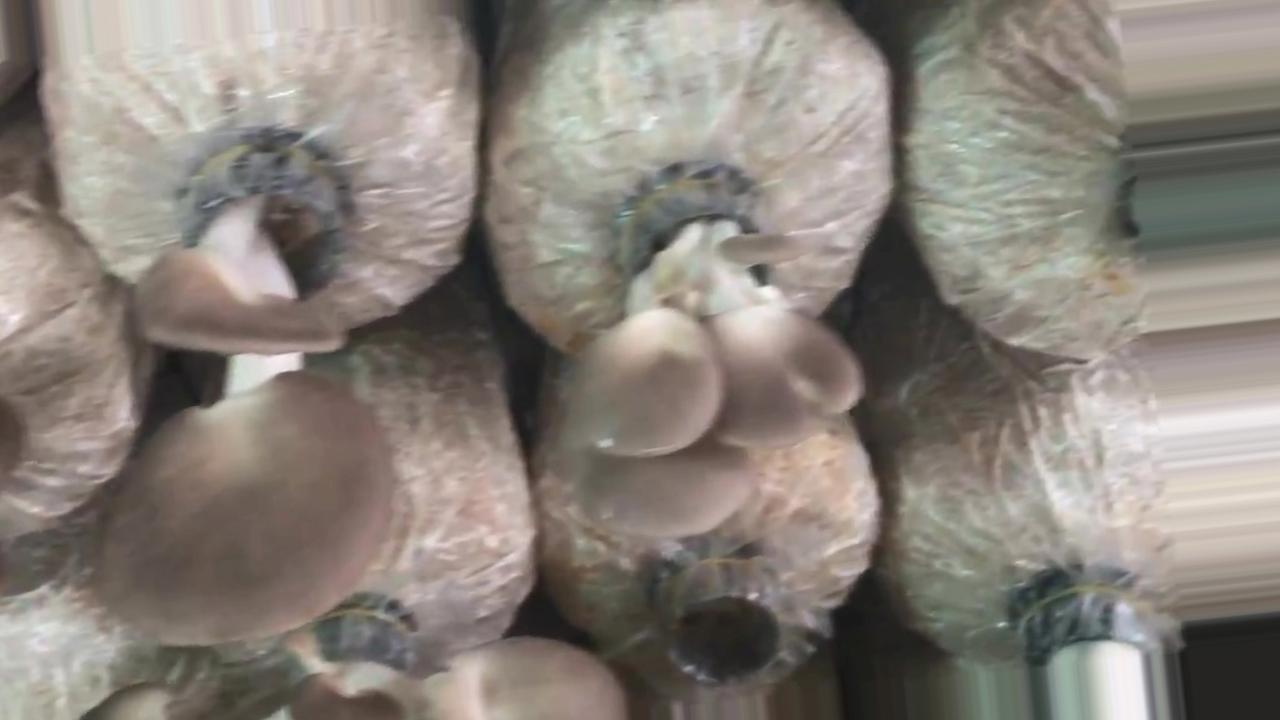nam: (100, 131, 398, 652), (567, 164, 870, 539)
